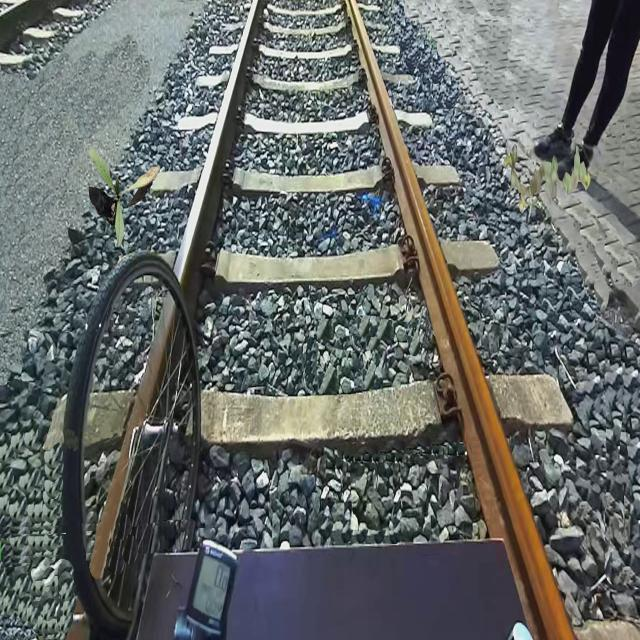Plant: (88, 148, 160, 248), (504, 144, 590, 212)
